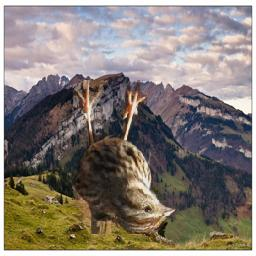Sparrow: (72, 80, 178, 234)
